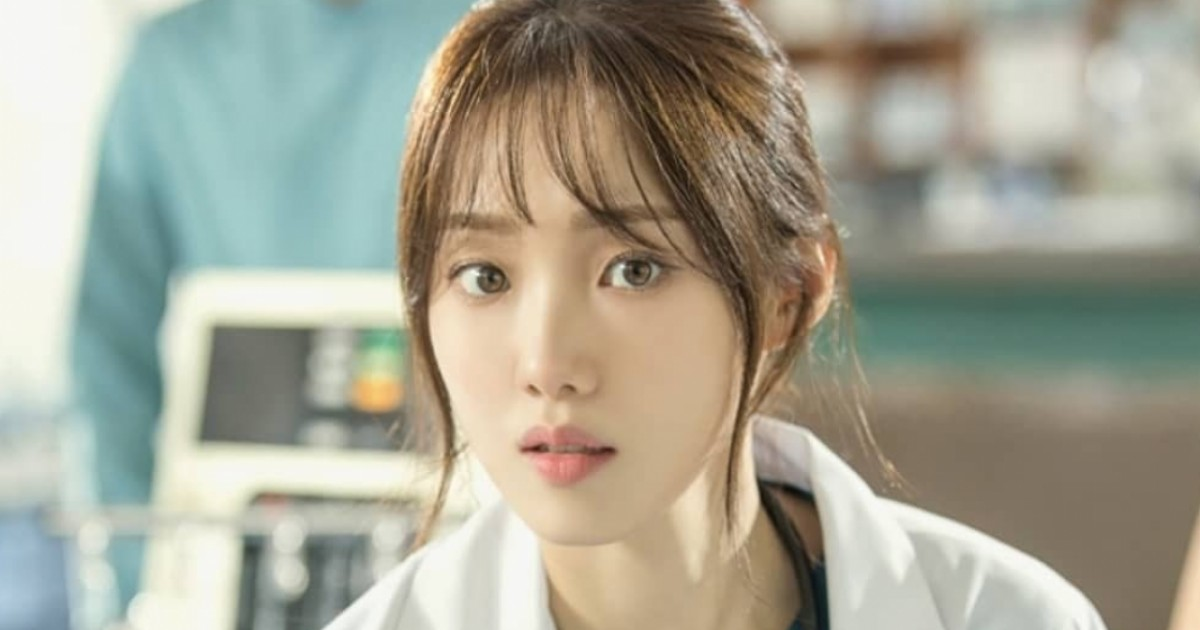bare: (427, 319, 739, 547)
